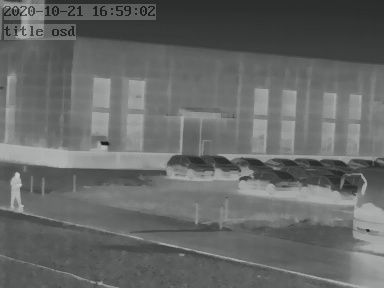person: (11, 170, 23, 208)
vehicle: (240, 170, 305, 192), (302, 175, 358, 199), (164, 153, 213, 179), (203, 153, 242, 177), (232, 154, 269, 172), (343, 156, 378, 172), (261, 155, 296, 169), (296, 155, 325, 169), (319, 157, 350, 170)
